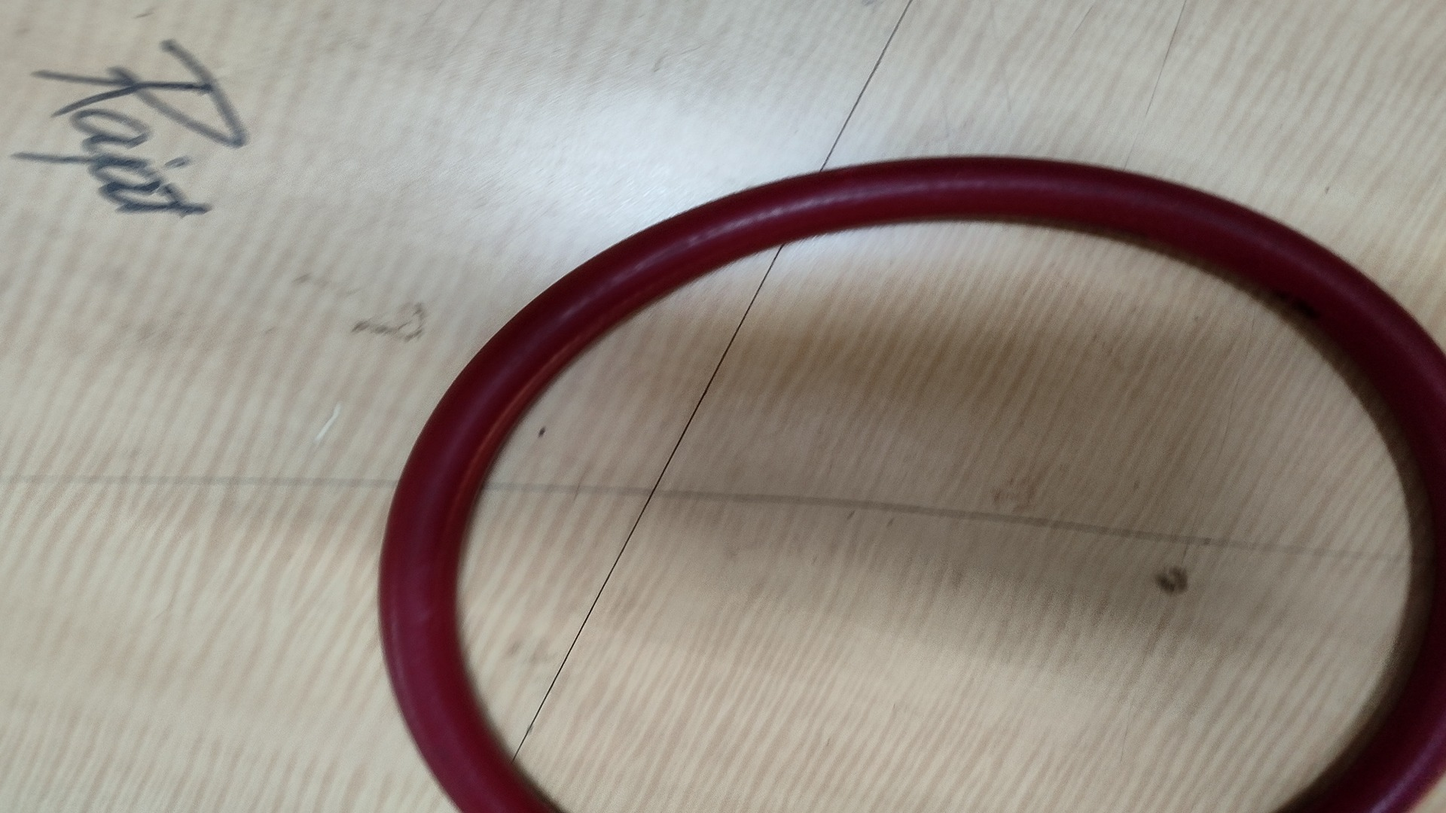Red ring: (379, 157, 1446, 813)
